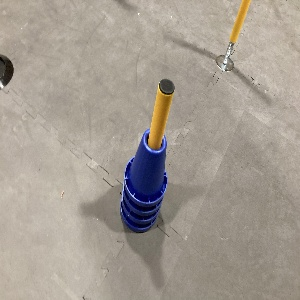Blue_4: (118, 127, 170, 234)
